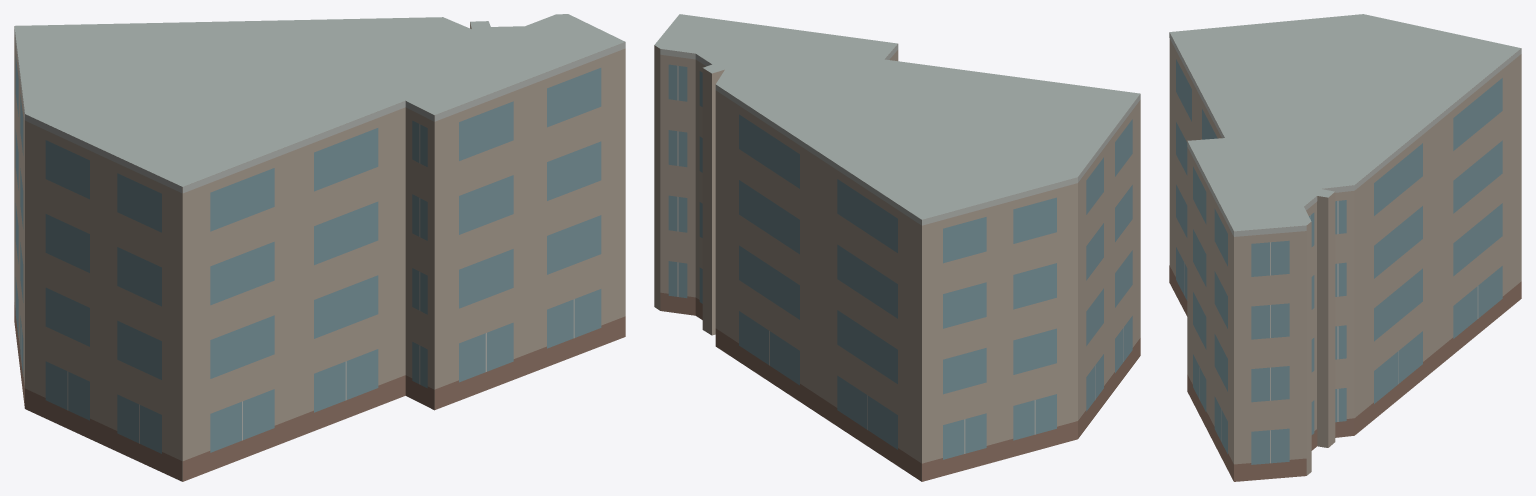
File: survey-upis-33001520.glb
3 views of the same model, side by side, from view 1: azimuth 30°, elevation 25°; view 2: azimuth 150°, elevation 25°; view 3: azimuth 270°, elevation 25° (orthographic). The views are drawn at different scales.
Visible parts, largest first — view 1: survey-upis-33001520.tmp; view 2: survey-upis-33001520.tmp; view 3: survey-upis-33001520.tmp.
Boxes of the visible parts, left/top/right/bottom form: survey-upis-33001520.tmp: left=14, top=14, right=625, bottom=481; survey-upis-33001520.tmp: left=654, top=14, right=1140, bottom=481; survey-upis-33001520.tmp: left=1169, top=14, right=1521, bottom=481.
Size of the model in its own units: 20.42 by 10.97 by 13.98.
